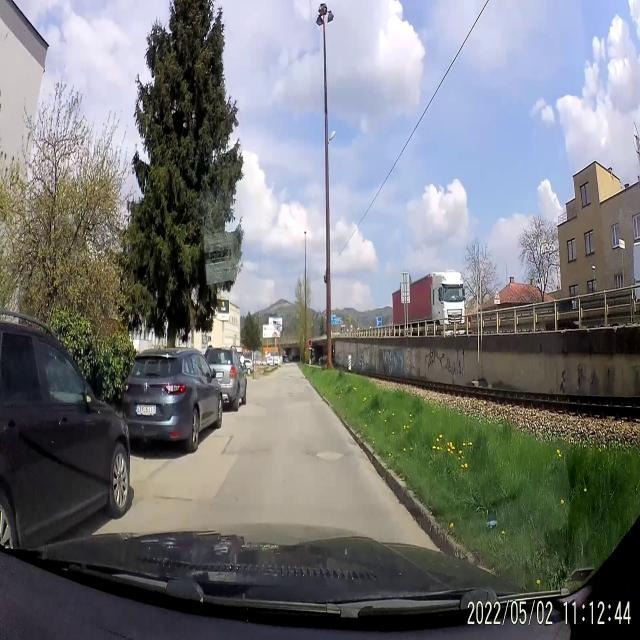Manhole: (306, 445, 348, 471)
